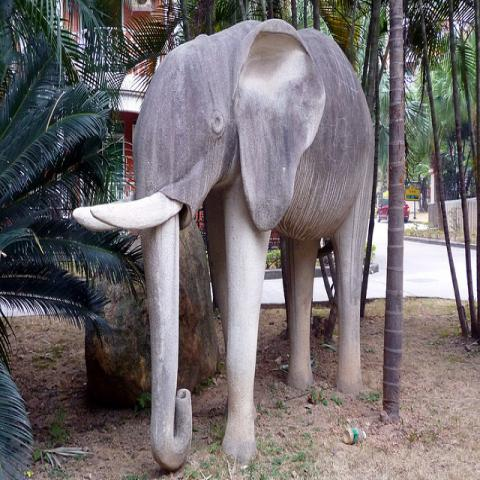car: (376, 196, 388, 220), (402, 199, 410, 224)
